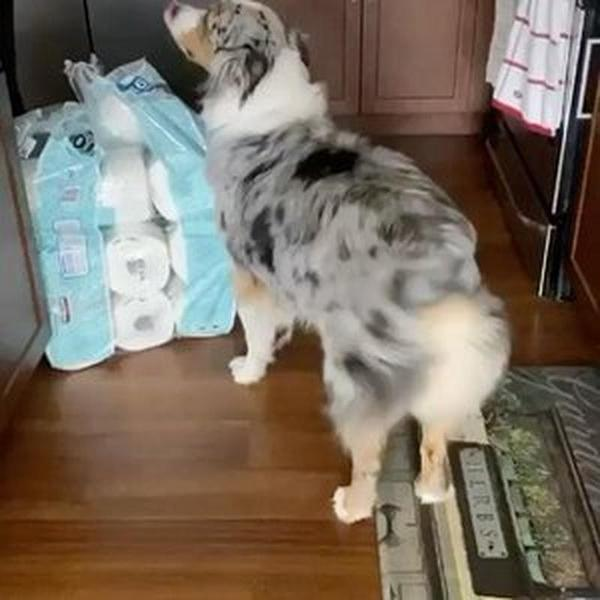allqu: (148, 1, 541, 529)
